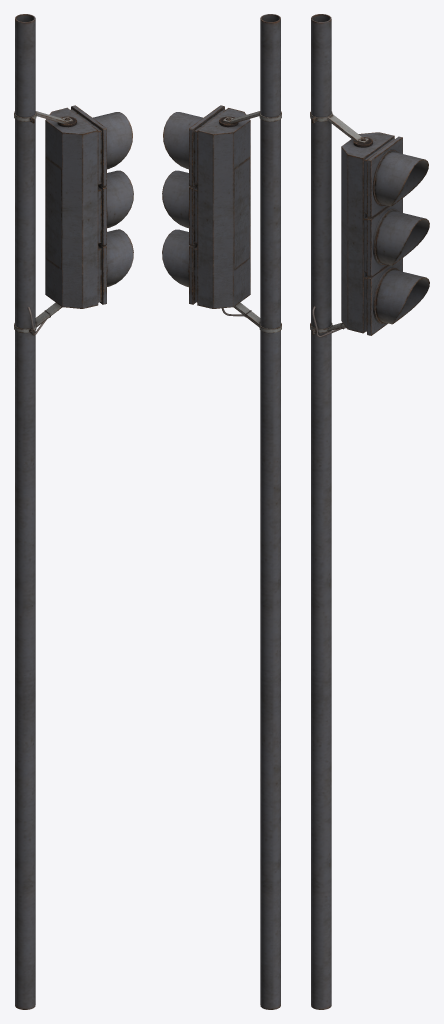
Rendered from traffic_light.glb.glb.
3 views of the same model, side by side, from view 1: azimuth 30°, elevation 25°; view 2: azimuth 150°, elevation 25°; view 3: azimuth 330°, elevation 25° (orthographic).
Parts seen in each view (by area): view 1: TrafficLight; view 2: TrafficLight; view 3: TrafficLight.
Part boxes in pixels (box(x1,y1,x2,y2)): TrafficLight: box(14, 14, 133, 1009); TrafficLight: box(162, 14, 281, 1009); TrafficLight: box(310, 14, 429, 1009).
Bounding box in the file's own units: 37.04 × 323 × 18.99.
Materials: 1 (1 with a texture image).
